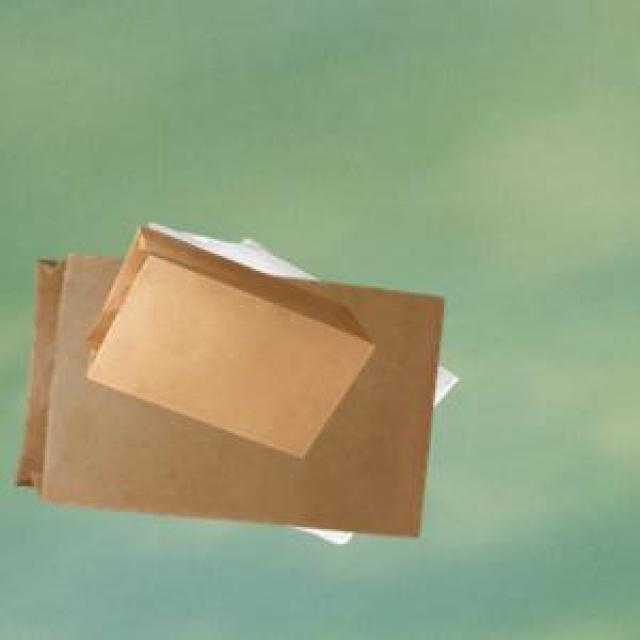paper: (12, 250, 438, 533), (81, 222, 369, 452)
